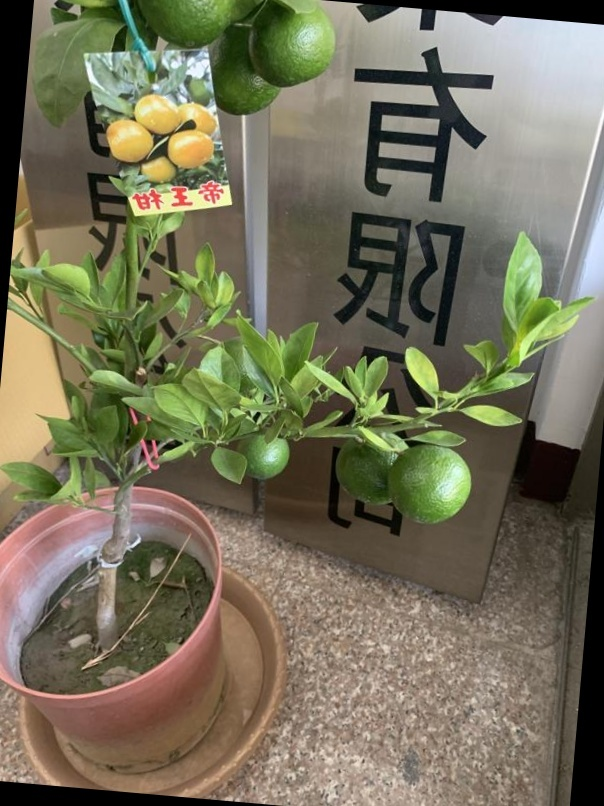Tangerine: (252, 3, 337, 90), (389, 440, 472, 527), (335, 427, 408, 509)
